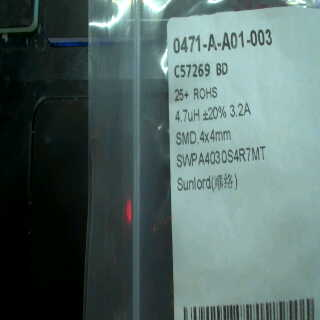4.7uH: (172, 104, 204, 127)
